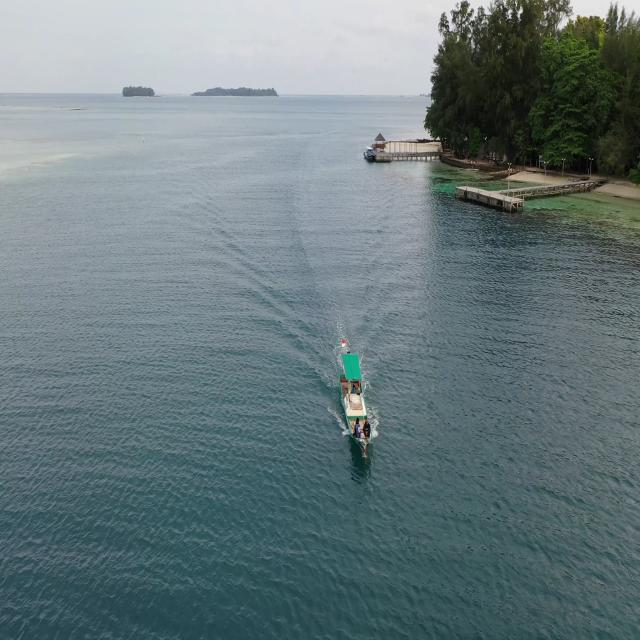ship: (328, 333, 379, 466)
